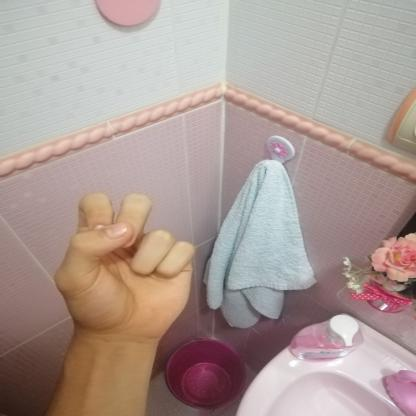QAAF: (33, 181, 215, 358)
